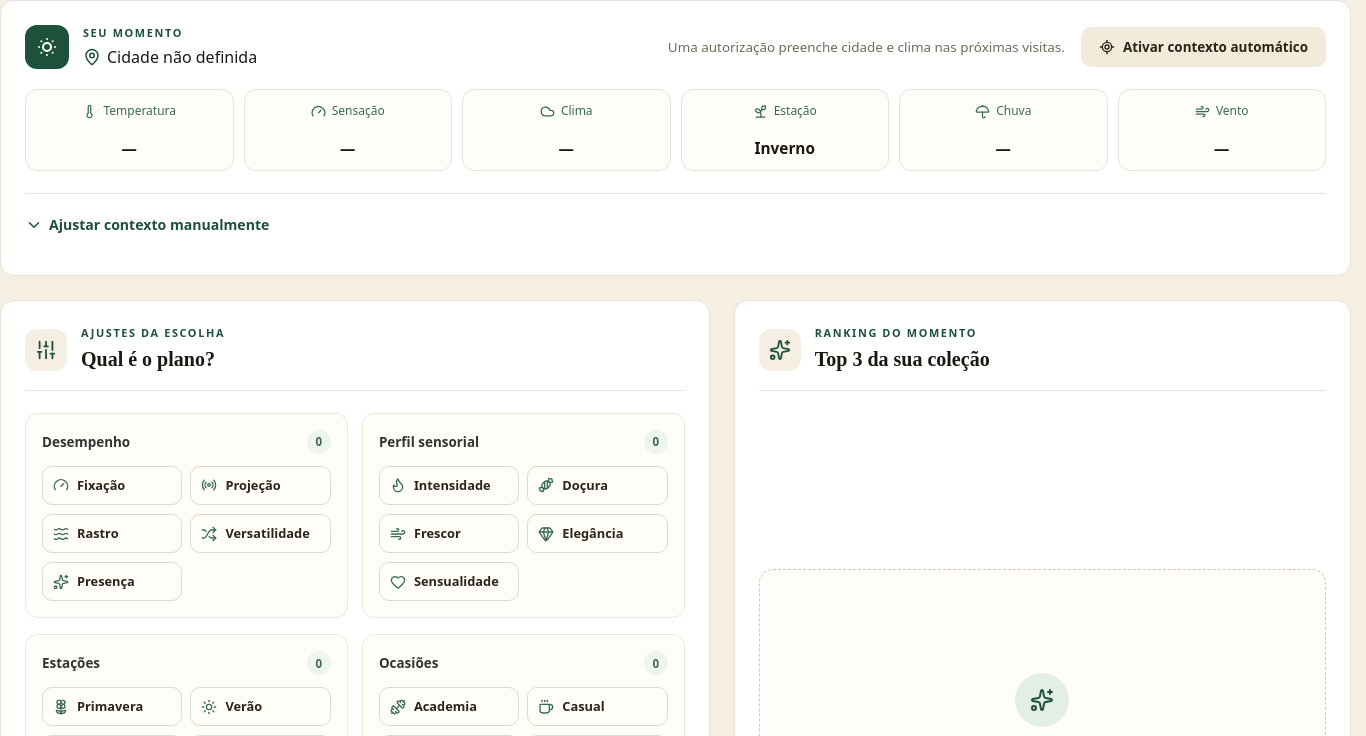
Test: RecommenderView › keeps manual context editing limited to city, temperature, weather and season
Click the button "Ajustar contexto manualmente". click: (147, 225)
box: [25,214,269,235]
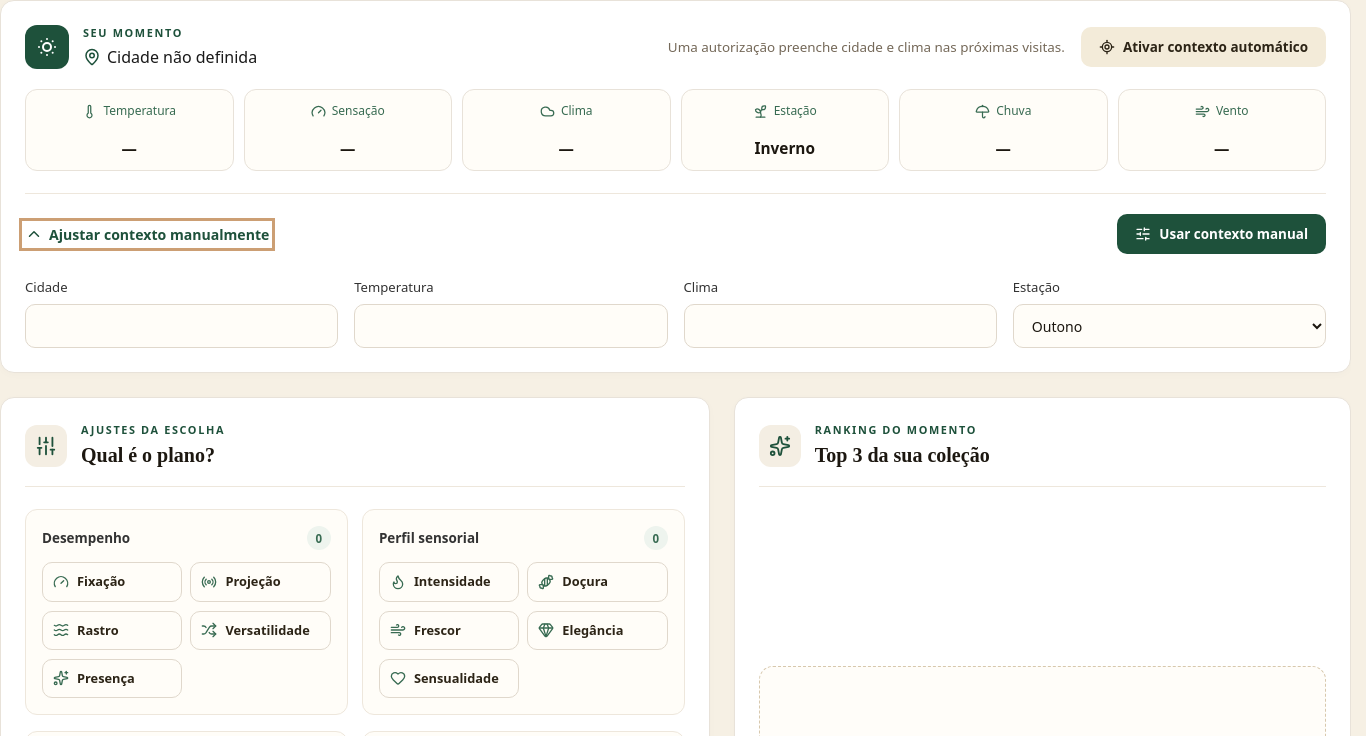
Check: the field labelled "Cidade" is shown, box [25,304,338,348]
Check: the field labelled "Temperatura" is shown, box [354,304,668,348]
Check: the field labelled "Clima" is shown, box [684,304,997,348]
